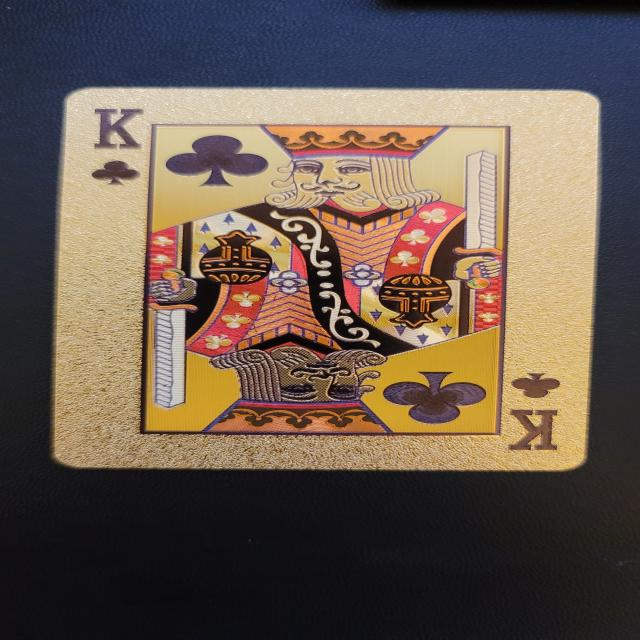King of clubs: (48, 87, 605, 475)
